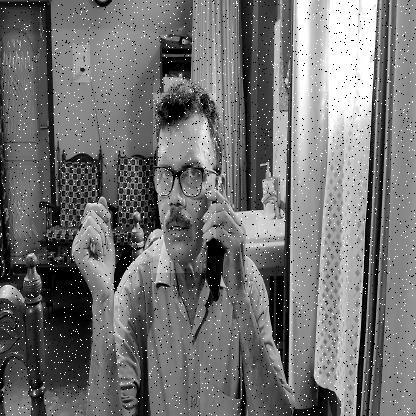Distracted: (153, 93, 216, 274)
